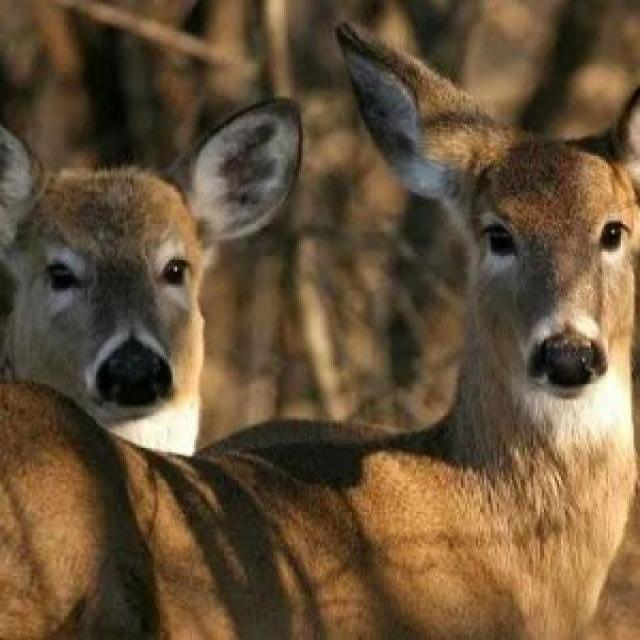deer: (303, 108, 640, 635), (0, 144, 373, 508)
